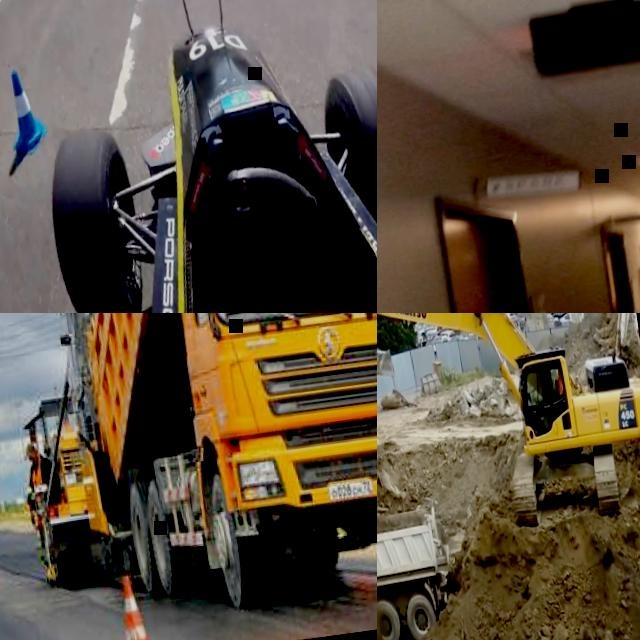NO-Mask: (541, 381, 544, 387)
NO-Safety Vest: (541, 386, 550, 402), (539, 374, 545, 382)
Person: (20, 437, 68, 522), (526, 373, 554, 433)
Safety Cone: (104, 570, 161, 640), (2, 59, 42, 151)
Safety Vest: (26, 456, 48, 503)
machinery: (38, 313, 377, 632), (377, 313, 640, 560), (377, 480, 462, 640), (604, 313, 640, 392), (377, 342, 401, 428)
vehicle: (30, 0, 377, 313), (415, 320, 435, 338), (424, 331, 441, 344), (441, 328, 458, 341), (431, 333, 449, 343), (448, 334, 464, 342), (507, 313, 520, 320), (552, 313, 570, 318), (559, 313, 570, 321)
